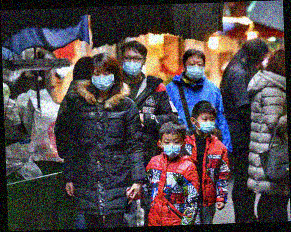with_mask: (90, 68, 116, 93), (122, 53, 144, 78), (161, 135, 183, 159), (184, 59, 205, 84), (199, 114, 217, 134)
